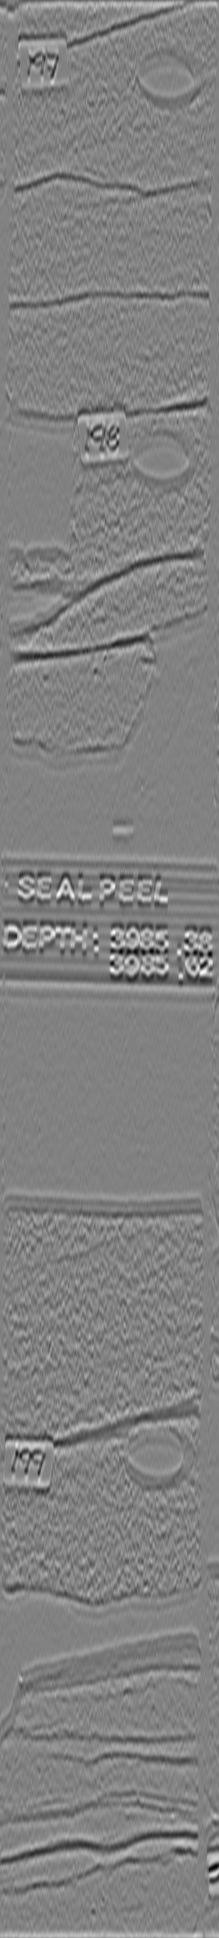hplug: (126, 38, 210, 116), (124, 424, 204, 496), (118, 1426, 192, 1492)
vplug: (7, 392, 84, 570), (19, 1434, 92, 1602)
